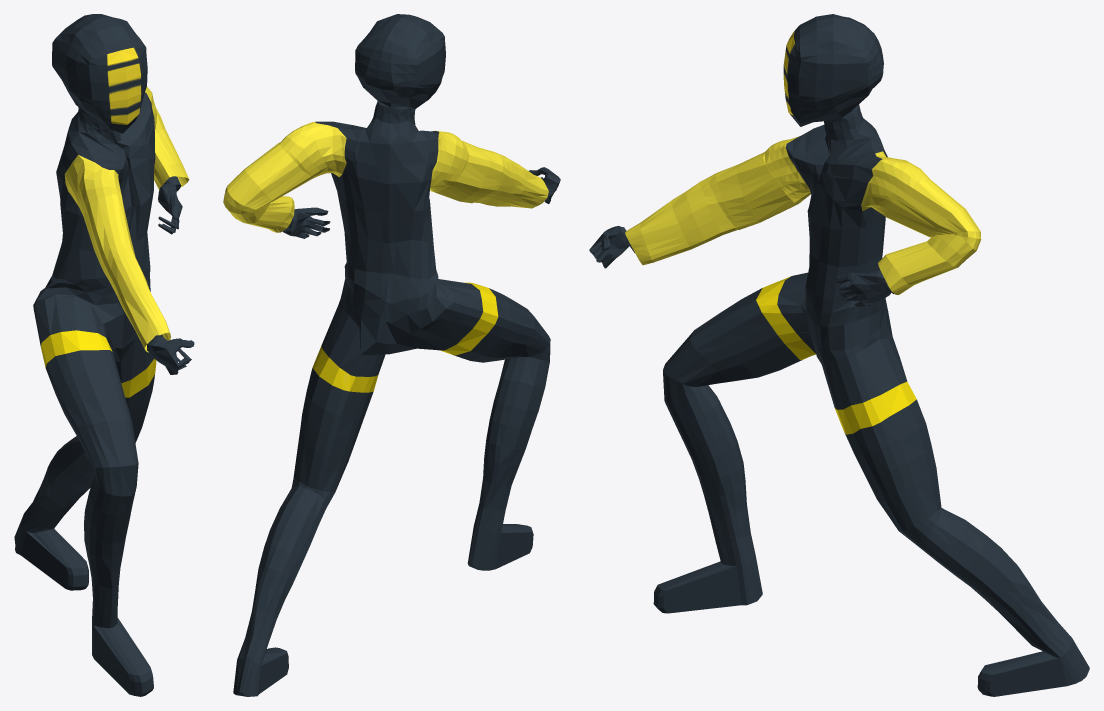
The model's file is Sentry_WR_000004.obj.
The picture shows the model from 3 angles, left to right: view 1: azimuth 30°, elevation 25°; view 2: azimuth 150°, elevation 25°; view 3: azimuth 270°, elevation 25°; orthographic projection. The views are drawn at different scales.
Parts seen in each view (by area): view 1: Cube; view 2: Cube; view 3: Cube.
Boxes of the visible parts, left/top/right/bottom form: Cube: left=14, top=14, right=194, bottom=696; Cube: left=223, top=14, right=560, bottom=696; Cube: left=589, top=14, right=1089, bottom=696.
Bounding box in the file's own units: 1.19 × 3.62 × 2.53.
